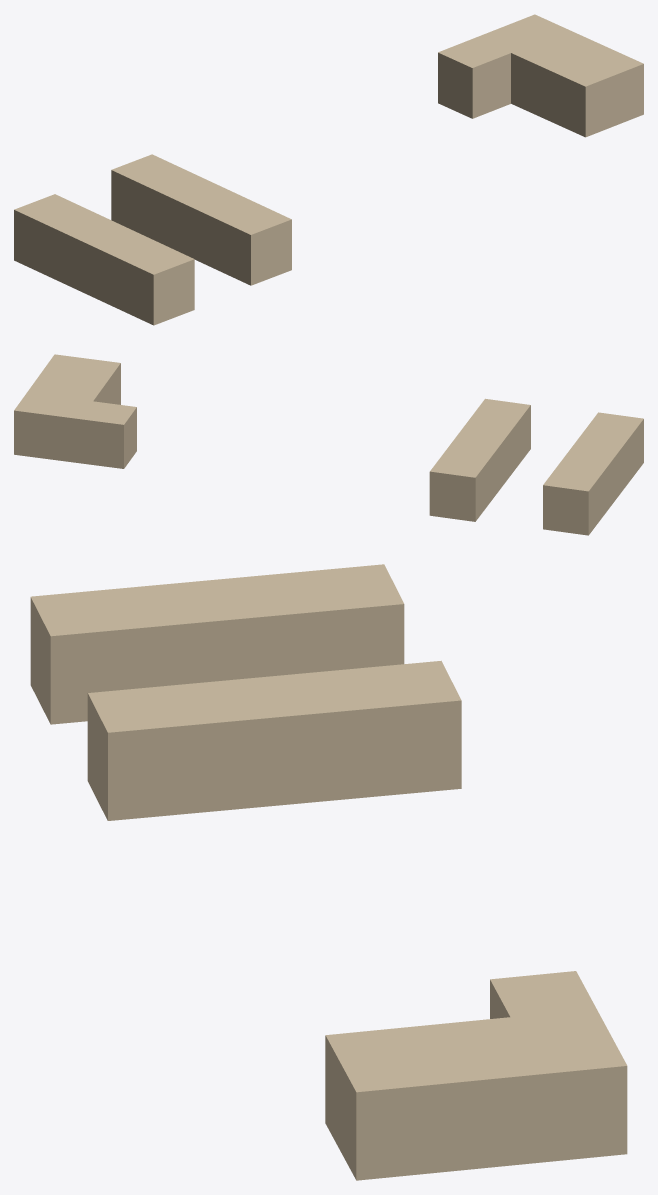
The model's file is -17_-3-estimated-coarse.glb.
3 renders of one model, top to bottom at view 1: azimuth 30°, elevation 25°; view 2: azimuth 150°, elevation 25°; view 3: azimuth 270°, elevation 25°, orthographic. The views are drawn at different scales.
Size of the model in its own units: 154 by 12 by 73.49.
